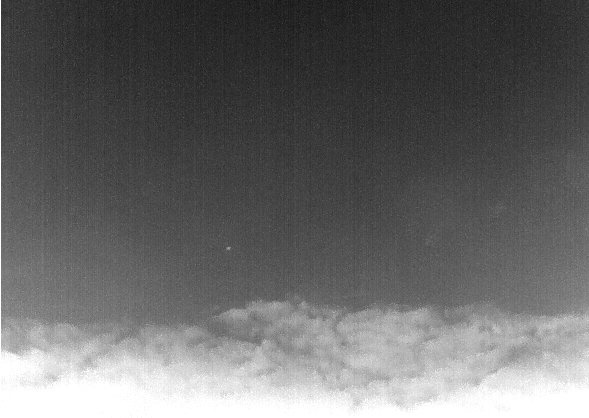dim target: (223, 244, 234, 252)
